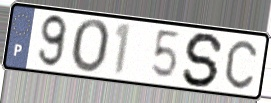1: (111, 21, 133, 78)
5: (149, 28, 182, 83)
9: (35, 12, 71, 71)
C: (224, 38, 259, 91)
O: (70, 17, 113, 76)
S: (180, 31, 226, 89)
